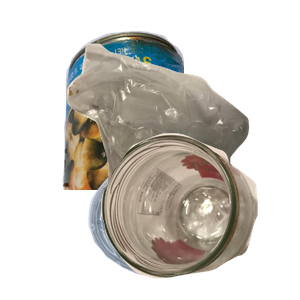glass: (98, 131, 300, 300)
metal: (60, 28, 300, 208)
plastic: (86, 163, 282, 300)
trash: (65, 41, 300, 221)
